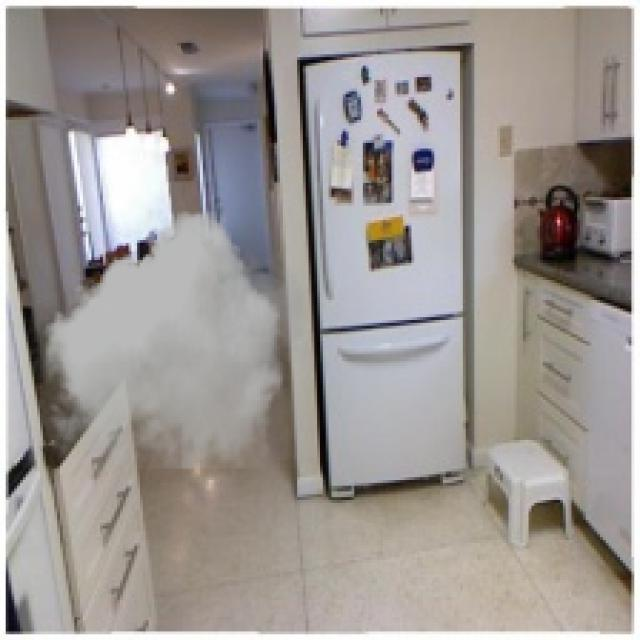smoke: (40, 212, 314, 468)
